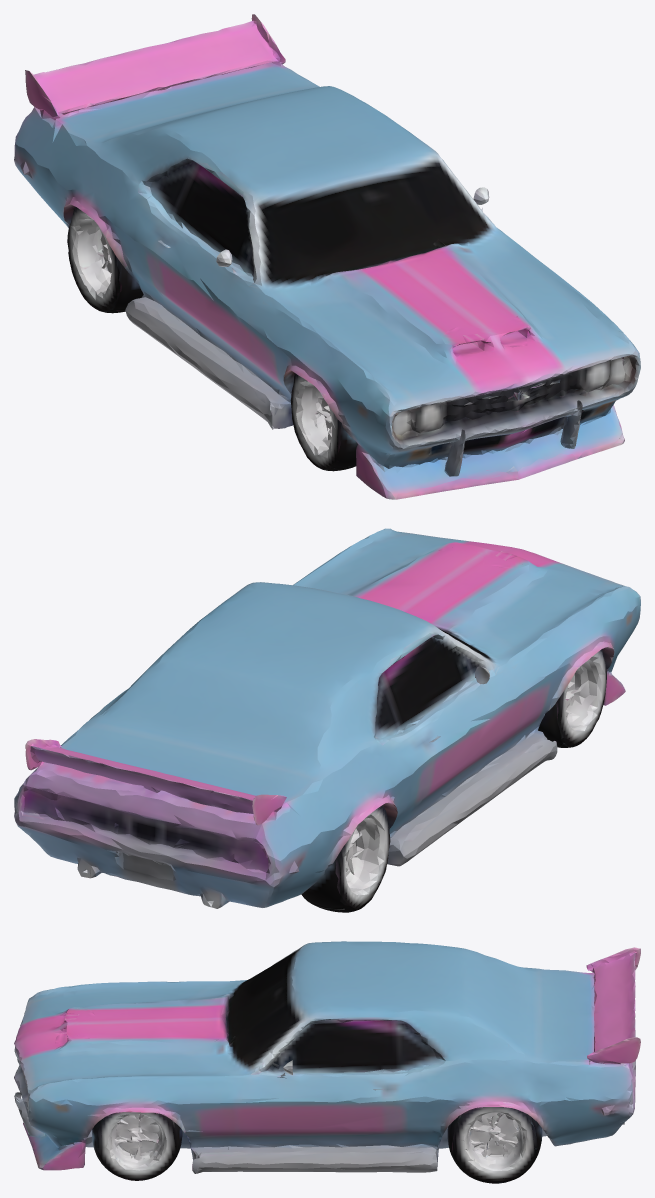
3 renders of one model, top to bottom at view 1: azimuth 30°, elevation 25°; view 2: azimuth 150°, elevation 25°; view 3: azimuth 270°, elevation 25°, orthographic. The views are drawn at different scales.
Parts seen in each view (by area): view 1: Car_3_Sunset_Muscle; view 2: Car_3_Sunset_Muscle; view 3: Car_3_Sunset_Muscle.
Boxes of the visible parts, x1,y1,x2,y2 form: Car_3_Sunset_Muscle: (14,14,640,499); Car_3_Sunset_Muscle: (14,528,640,912); Car_3_Sunset_Muscle: (14,941,640,1183).
Size of the model in its own units: 0.8258 by 0.5326 by 1.89.
Materials: 1 (1 with a texture image).
